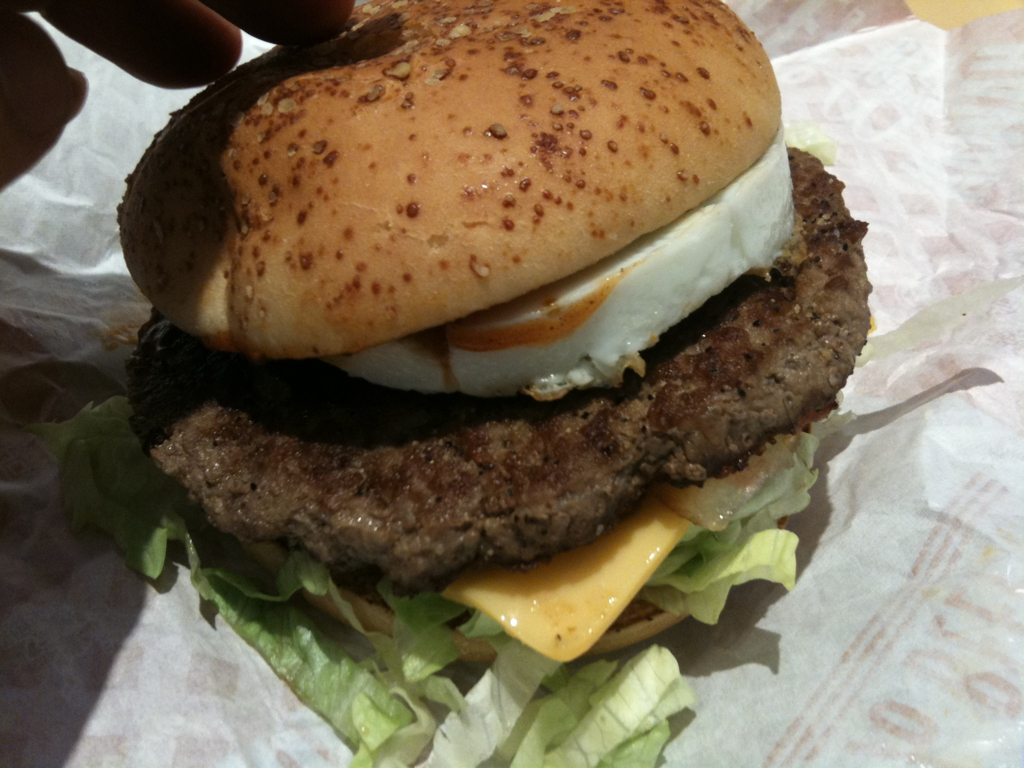Hamburger: (55, 0, 1004, 767)
